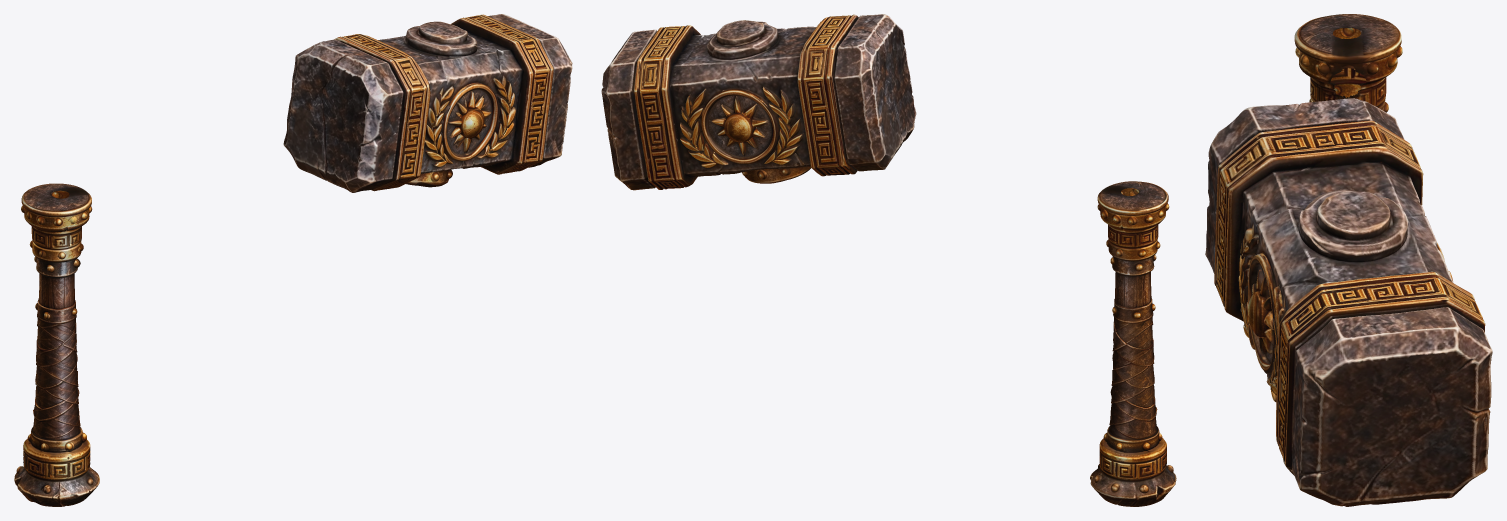
Rendered from weapon-mobile.glb.
3 views of the same model, side by side, from view 1: azimuth 30°, elevation 25°; view 2: azimuth 150°, elevation 25°; view 3: azimuth 270°, elevation 25° (orthographic). The views are drawn at different scales.
Visible parts, largest first — view 1: HammerHead_part_35, HammerHead_part_0, Handle_part_3, HammerHead_part_34, HammerHead_part_6, HammerHead_part_27, Handle_part_1, Handle_part_9, Handle_part_11, HammerHead_part_8, HammerHead_part_25, HammerHead_part_36 (+14 smaller); view 2: HammerHead_part_0, HammerHead_part_35, HammerHead_part_34, Handle_part_3, HammerHead_part_6, Handle_part_1, HammerHead_part_25, HammerHead_part_30, HammerHead_part_27, Handle_part_9, HammerHead_part_47, HammerHead_part_42 (+14 smaller); view 3: HammerHead_part_34, HammerHead_part_0, HammerHead_part_25, Handle_part_3, HammerHead_part_35, HammerHead_part_30, HammerHead_part_27, HammerHead_part_48, HammerHead_part_6, Handle_part_11, HammerHead_part_51, HammerHead_part_41 (+9 smaller).
Boxes of the visible parts, x1=… form: HammerHead_part_35: x1=283, y1=39, x2=403, y2=192; HammerHead_part_0: x1=378, y1=21, x2=522, y2=173; Handle_part_3: x1=21, y1=183, x2=92, y2=234; HammerHead_part_34: x1=488, y1=14, x2=572, y2=167; HammerHead_part_6: x1=450, y1=17, x2=534, y2=174; HammerHead_part_27: x1=334, y1=35, x2=422, y2=191; Handle_part_1: x1=14, y1=466, x2=99, y2=506; Handle_part_9: x1=23, y1=438, x2=90, y2=479; Handle_part_11: x1=29, y1=226, x2=83, y2=262; HammerHead_part_8: x1=441, y1=82, x2=499, y2=160; HammerHead_part_25: x1=350, y1=34, x2=430, y2=188; HammerHead_part_36: x1=477, y1=78, x2=516, y2=158; HammerHead_part_0: x1=670, y1=20, x2=816, y2=177; HammerHead_part_35: x1=833, y1=14, x2=916, y2=171; HammerHead_part_34: x1=601, y1=29, x2=656, y2=190; Handle_part_3: x1=1097, y1=181, x2=1169, y2=233; HammerHead_part_6: x1=650, y1=25, x2=700, y2=187; Handle_part_1: x1=1090, y1=464, x2=1176, y2=506; HammerHead_part_25: x1=797, y1=16, x2=841, y2=176; HammerHead_part_30: x1=633, y1=27, x2=667, y2=189; HammerHead_part_27: x1=818, y1=14, x2=858, y2=174; Handle_part_9: x1=1099, y1=438, x2=1166, y2=479; HammerHead_part_47: x1=707, y1=95, x2=773, y2=157; HammerHead_part_42: x1=711, y1=96, x2=768, y2=155; HammerHead_part_34: x1=1292, y1=307, x2=1492, y2=506; HammerHead_part_0: x1=1240, y1=162, x2=1453, y2=379; HammerHead_part_25: x1=1222, y1=129, x2=1423, y2=321; Handle_part_3: x1=1294, y1=14, x2=1402, y2=89; HammerHead_part_35: x1=1205, y1=98, x2=1404, y2=273; HammerHead_part_30: x1=1285, y1=297, x2=1485, y2=469; HammerHead_part_27: x1=1214, y1=120, x2=1412, y2=286; HammerHead_part_48: x1=1269, y1=128, x2=1378, y2=157; HammerHead_part_6: x1=1276, y1=271, x2=1477, y2=445; Handle_part_11: x1=1309, y1=68, x2=1388, y2=112; HammerHead_part_51: x1=1286, y1=286, x2=1367, y2=336; HammerHead_part_41: x1=1248, y1=269, x2=1273, y2=354.
Size of the model in its own units: 0.979 by 0.6652 by 0.2988.
49 materials, 49 textured.
